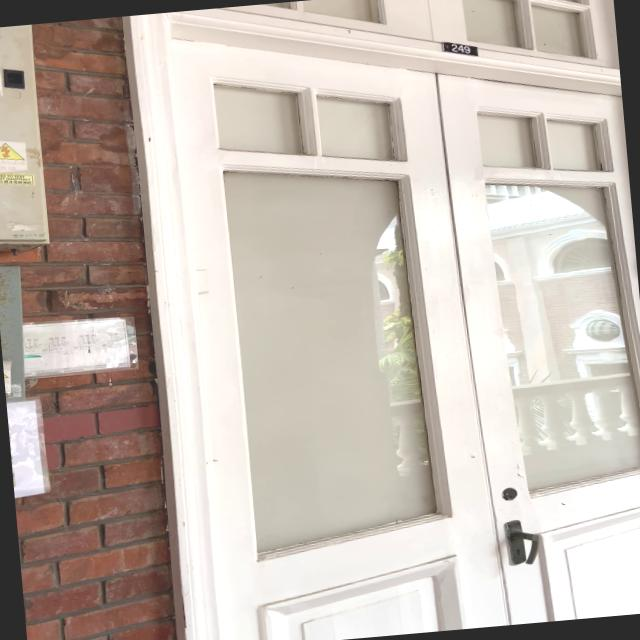room249: (436, 35, 484, 60)
